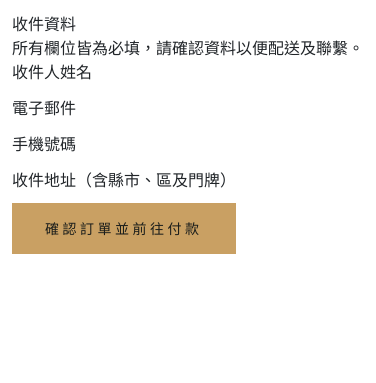
Test: recipient form › blocks empty recipient data
Click the button "確認訂單並前往付款". click: (124, 228)
box: [12,203,236,254]
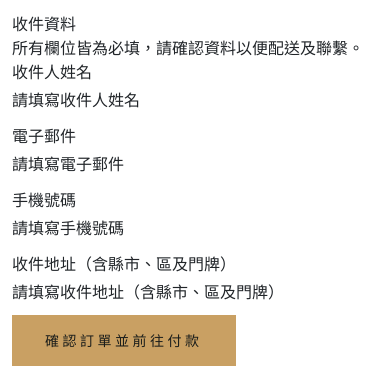
Expected: the number of messages is 4, [12,87,140,111]; [12,151,124,175]; [12,215,124,239]; [12,279,284,303]
